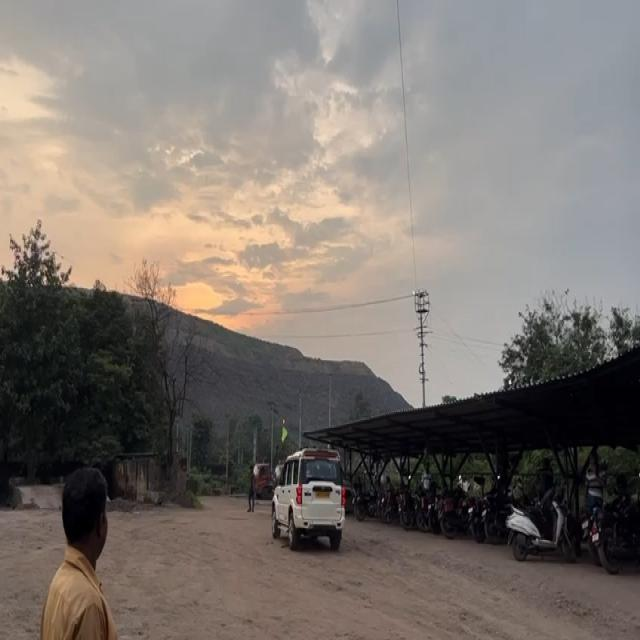light_vehicle: (271, 447, 348, 543)
